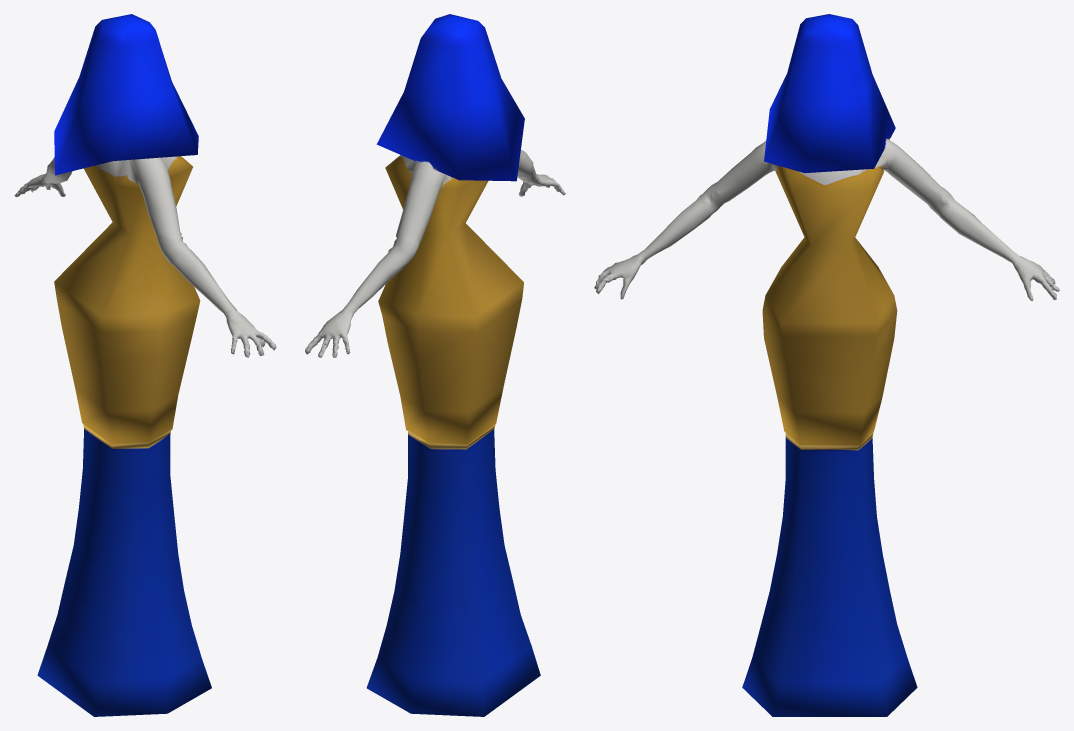
The picture shows the model from 3 angles, left to right: view 1: azimuth 30°, elevation 25°; view 2: azimuth 150°, elevation 25°; view 3: azimuth 270°, elevation 25°; orthographic projection.
Parts seen in each view (by area): view 1: tripo_node_54df8275-f15f-46c7-8917-f1171e391496; view 2: tripo_node_54df8275-f15f-46c7-8917-f1171e391496; view 3: tripo_node_54df8275-f15f-46c7-8917-f1171e391496.
Boxes of the visible parts, left/top/right/bottom form: tripo_node_54df8275-f15f-46c7-8917-f1171e391496: left=14, top=14, right=276, bottom=716; tripo_node_54df8275-f15f-46c7-8917-f1171e391496: left=305, top=14, right=565, bottom=716; tripo_node_54df8275-f15f-46c7-8917-f1171e391496: left=594, top=14, right=1059, bottom=716.
Bounding box in the file's own units: 0.2012 × 0.998 × 0.627.
1 material, 1 textured.
